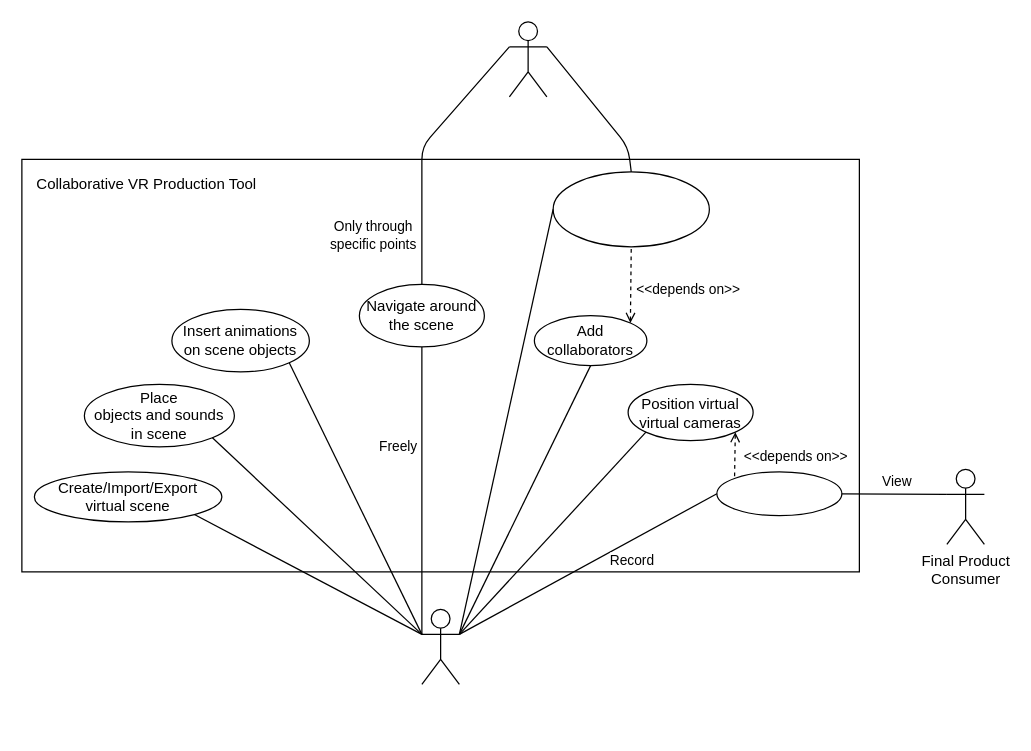
This 1031x751 diagram has some shape labels left out. The shapes that lost their labels are listed below. From the top down, each one's centre as x and y in pixels, then its label:
the point at 527,59: Project Manager (Cardboard User)
the point at 630,209: Speak to connected collaborators
the point at 779,493: Render Videos
the point at 440,646: VR Artist (Oculus Quest User)
